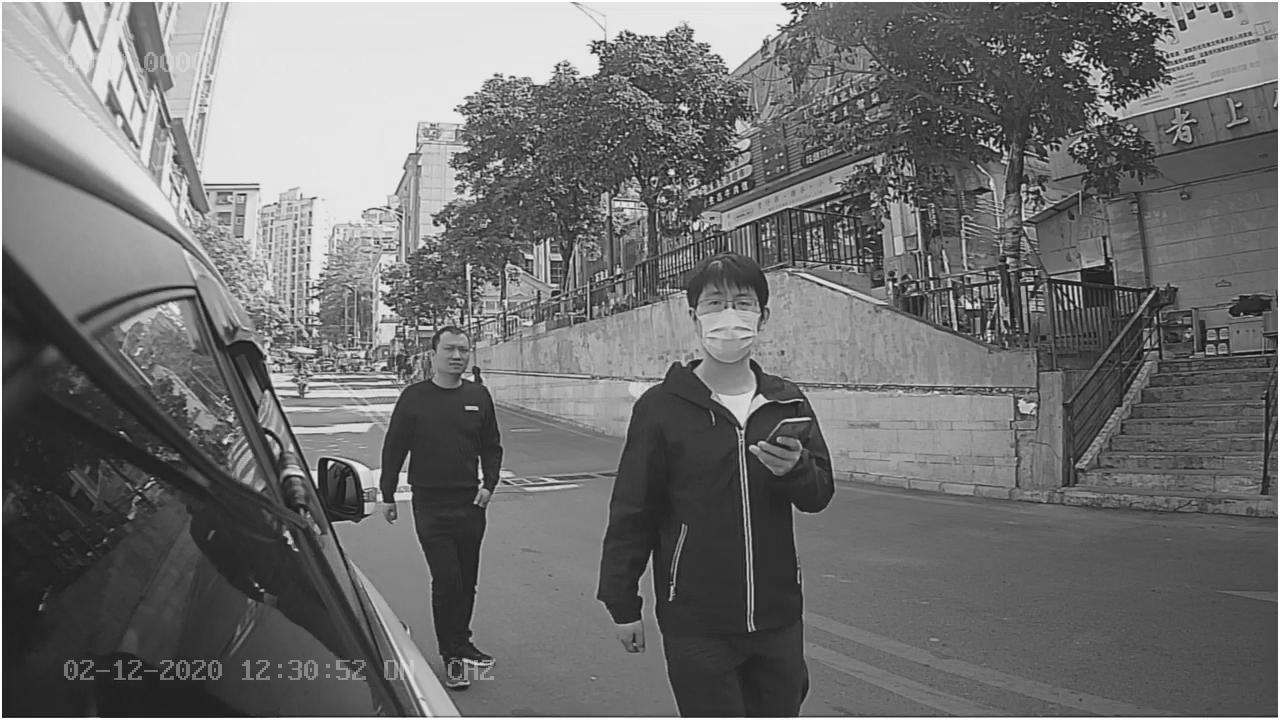person: (593, 249, 842, 654), (379, 323, 509, 525)
